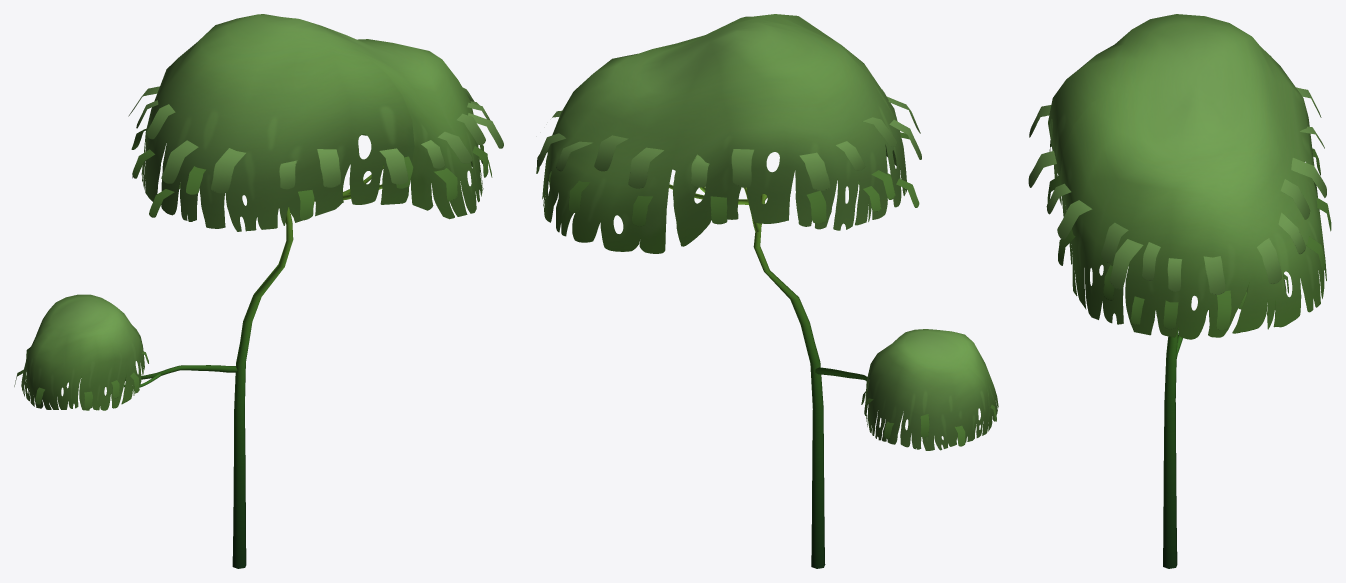
Rendered from Tree4.fbx.
The picture shows the model from 3 angles, left to right: view 1: azimuth 30°, elevation 25°; view 2: azimuth 150°, elevation 25°; view 3: azimuth 270°, elevation 25°; orthographic projection. The views are drawn at different scales.
Visible parts, largest first — view 1: Leaves_Base, Leaf_up, Trunk4, Leaf_down; view 2: Leaves_Base, Leaf_up, Trunk4, Leaf_down; view 3: Leaves_Base, Leaf_up, Trunk4, Leaf_down.
Boxes of the visible parts, left/top/right/bottom form: Leaves_Base: left=21, top=14, right=483, bottom=410; Leaf_up: left=128, top=86, right=503, bottom=193; Trunk4: left=124, top=165, right=383, bottom=568; Leaf_down: left=14, top=128, right=492, bottom=409; Leaves_Base: left=542, top=14, right=998, bottom=450; Leaf_up: left=537, top=89, right=921, bottom=190; Trunk4: left=669, top=184, right=867, bottom=568; Leaf_down: left=536, top=132, right=996, bottom=446; Leaves_Base: left=1048, top=14, right=1326, bottom=339; Leaf_up: left=1028, top=87, right=1326, bottom=294; Trunk4: left=1163, top=309, right=1208, bottom=568; Leaf_down: left=1047, top=140, right=1331, bottom=330.
Size of the model in its own units: 711 by 794 by 396.
